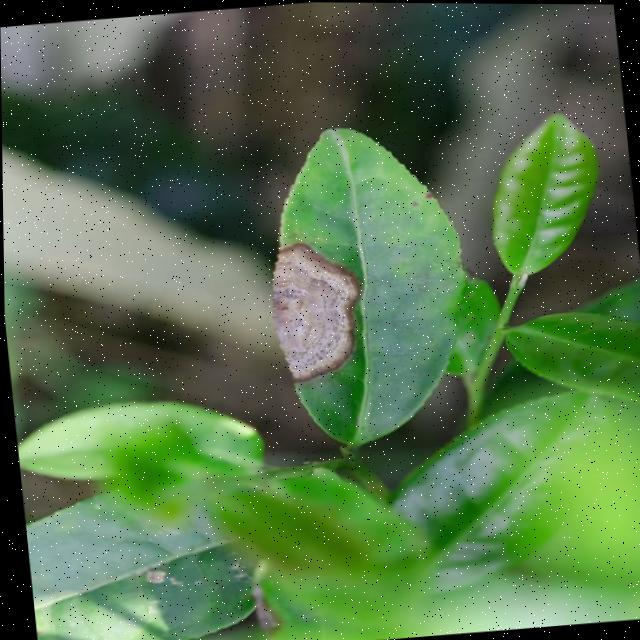Tea cloud leaf blight: (265, 232, 372, 387)
